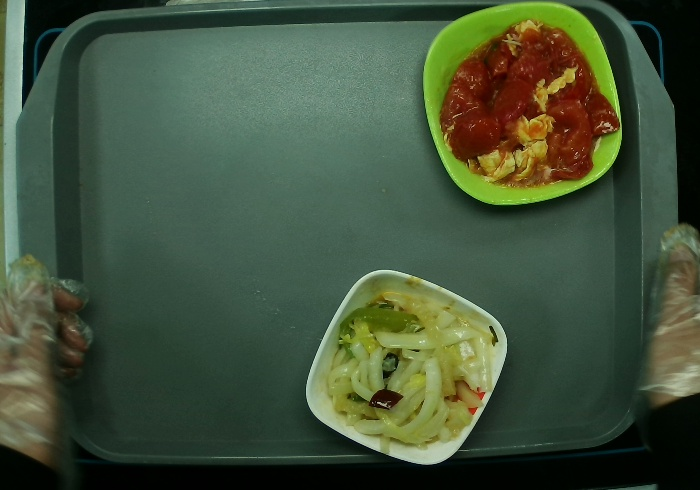SHKJ-Bai_Se_Xiao_Fang_Die: (306, 270, 509, 464)
SHKJ-Lv_Se_Cai_Die: (423, 1, 623, 205)
